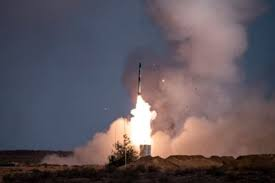ten_lua: (130, 57, 150, 111)
